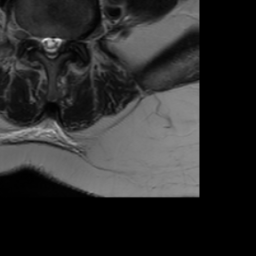CCS_normal: (48, 27, 55, 67)
LFS_severe_stenosis: (65, 29, 76, 55)
LLS_stenosis: (55, 29, 65, 59)
RFS_stenosis: (29, 26, 40, 54)
RLS_normal: (39, 28, 48, 55)
